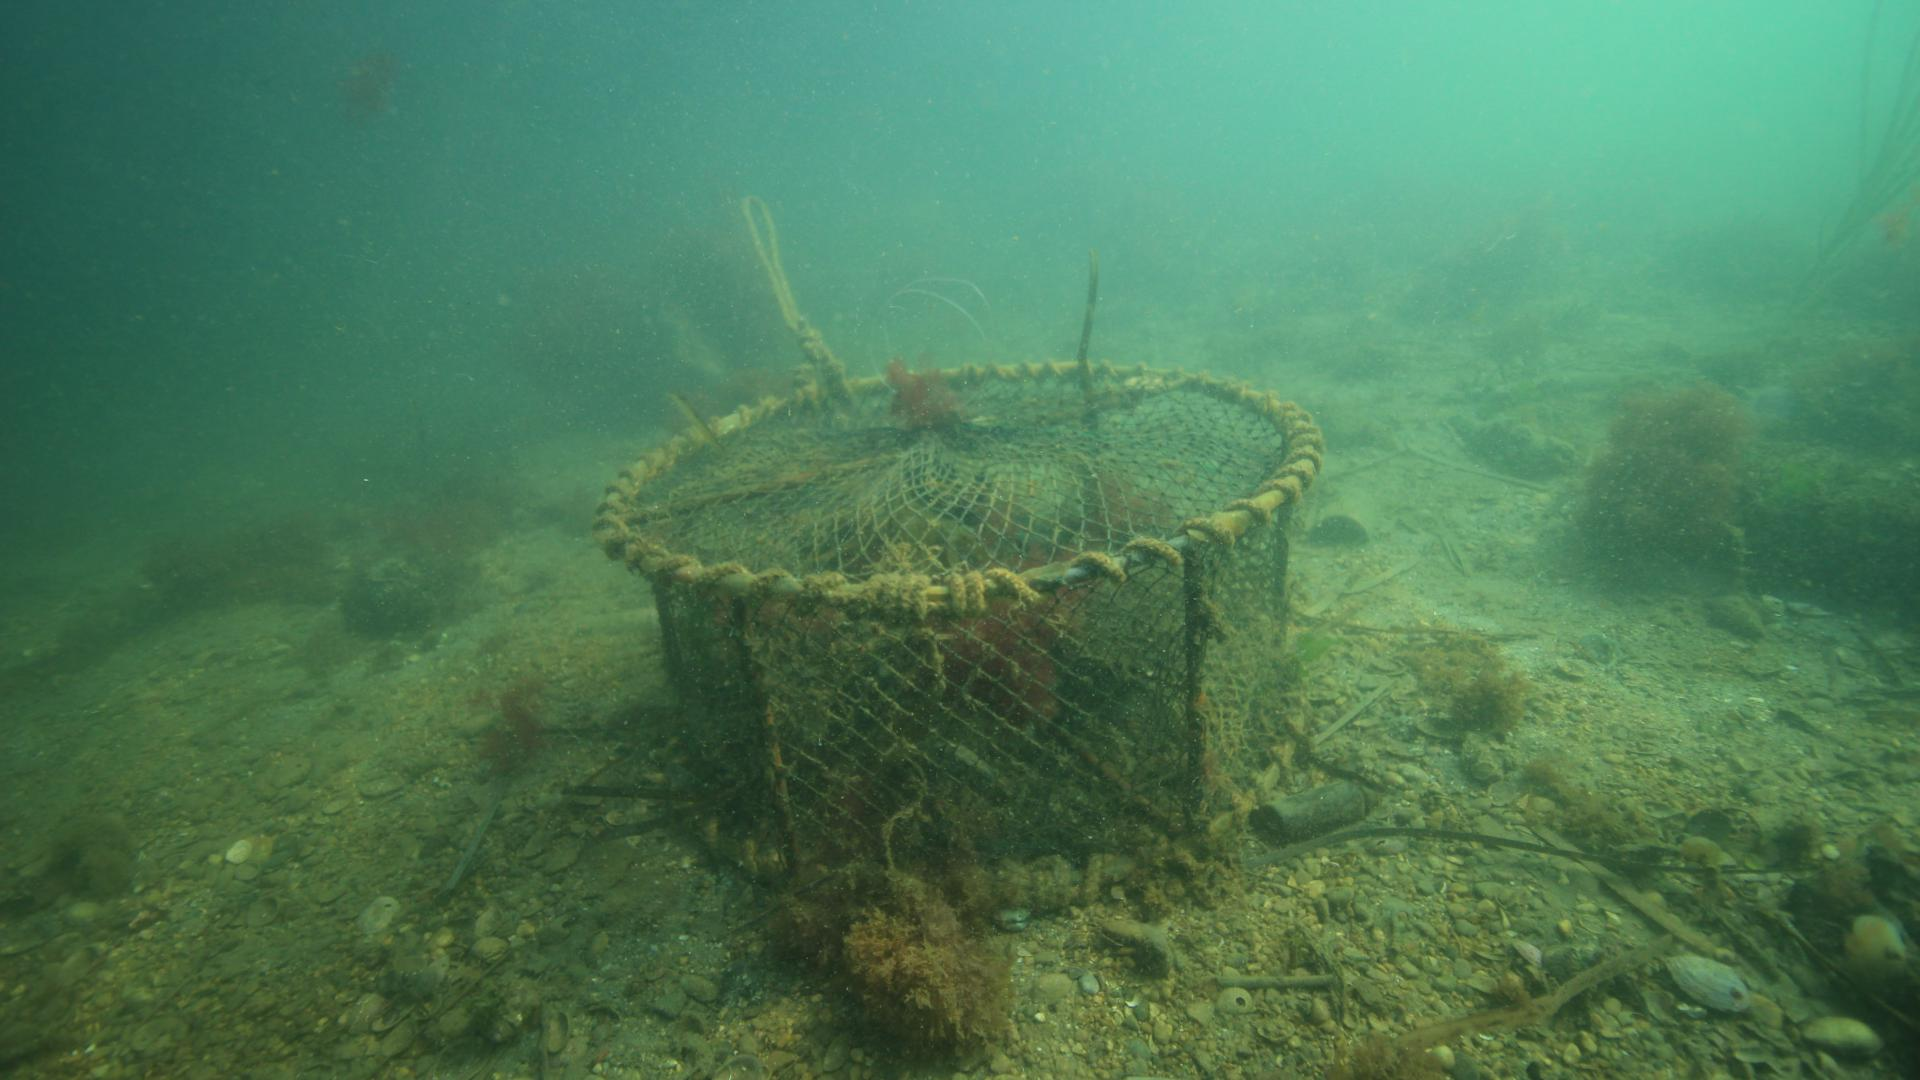bundle of ropes: (738, 190, 837, 375)
circular fish trap: (589, 357, 1323, 910)
